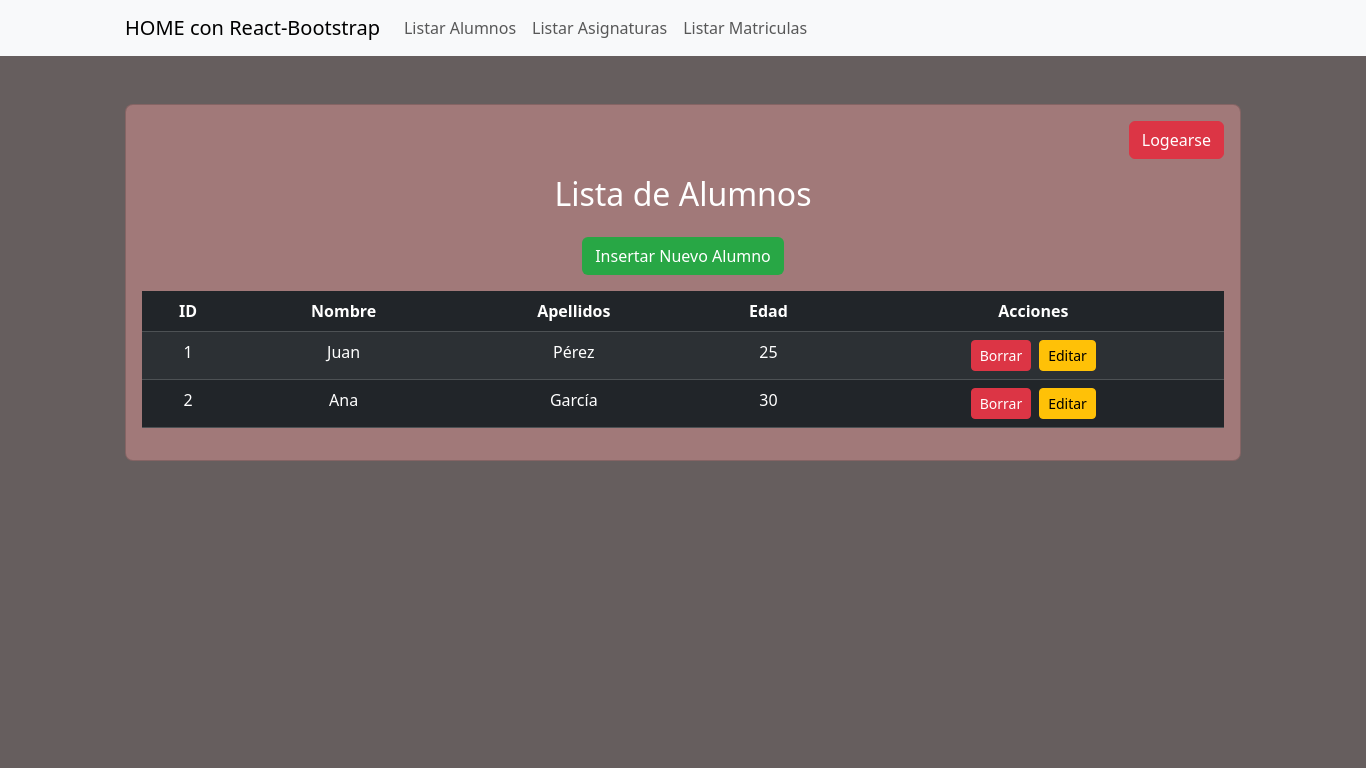
Test: Personas › permite cancelar el formulario de inserción
Step 1. Click the button "Insertar Nuevo Alumno" → [683, 256], box x1=582 y1=237 x2=784 y2=275
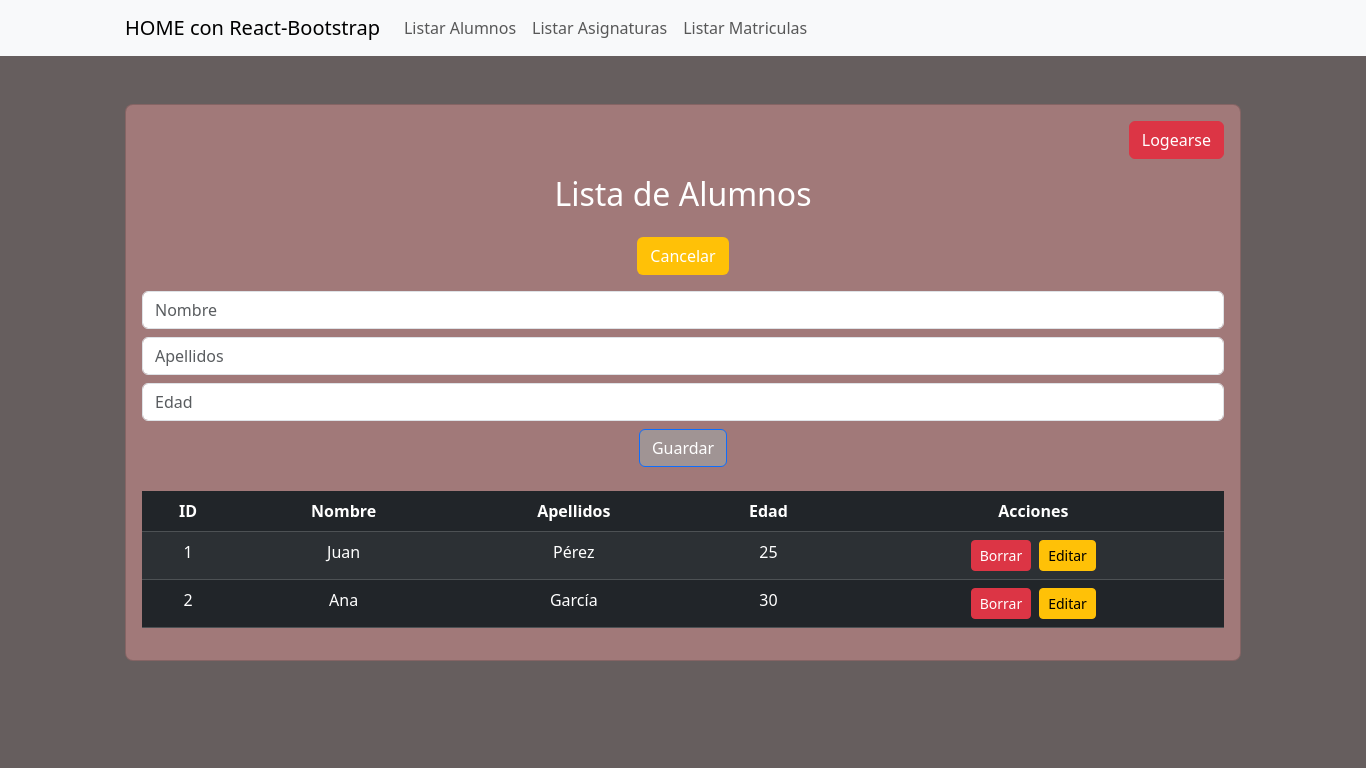
Step 2. Click the button "Cancelar" → [683, 256], box x1=637 y1=237 x2=728 y2=275
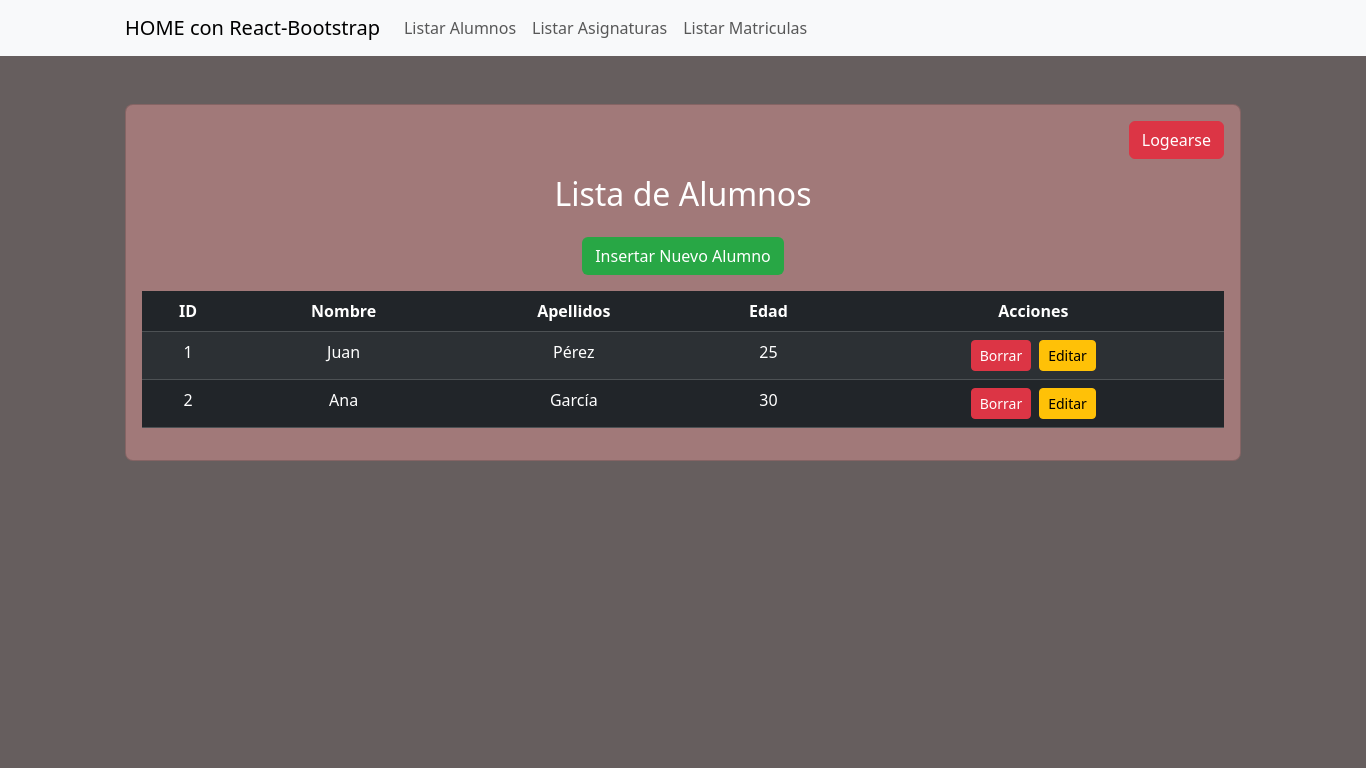
Now the field named "nombre" is gone
